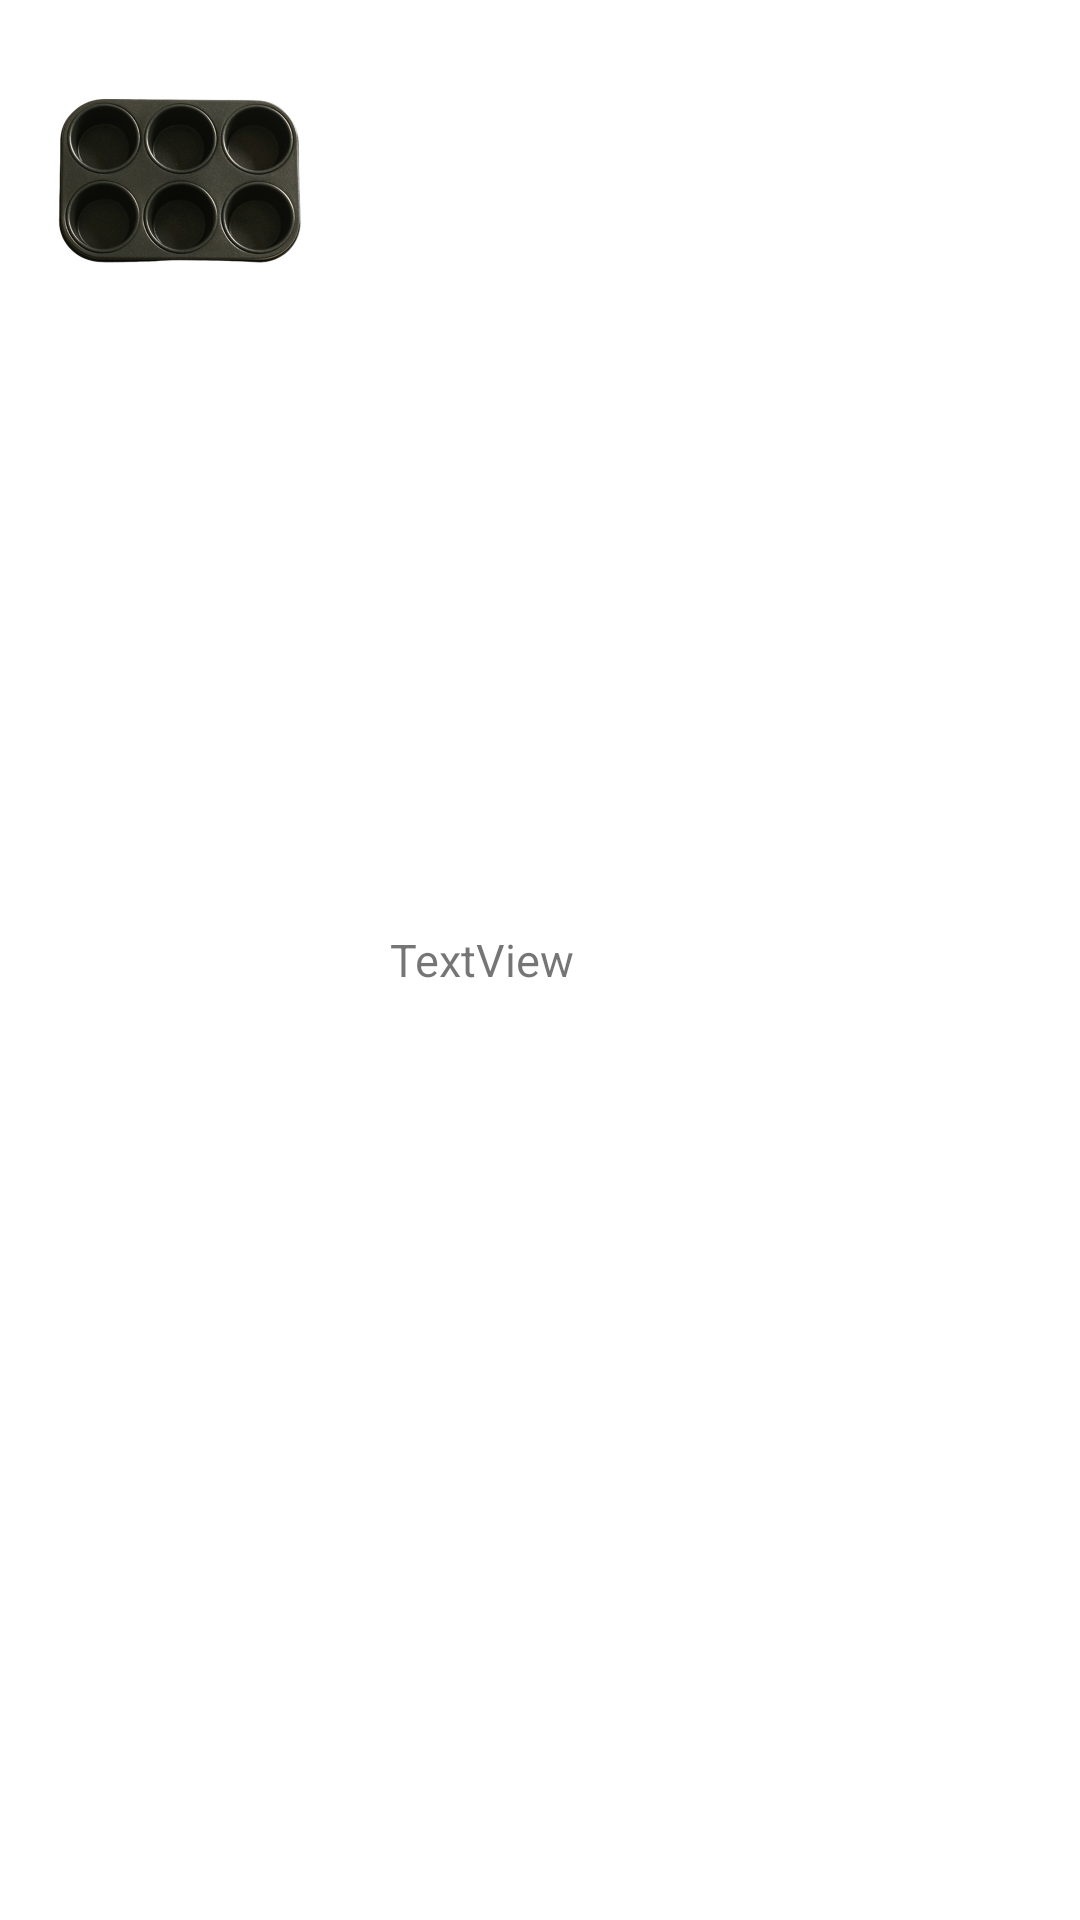

Named icons in this screenshot (1080 x 1920) and their centers, (x,y):
tray: (180,181)
